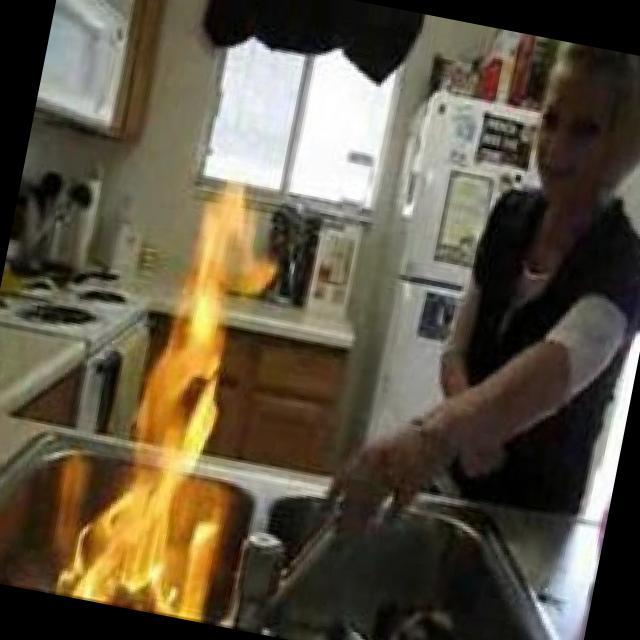Fire: (76, 178, 286, 624)
